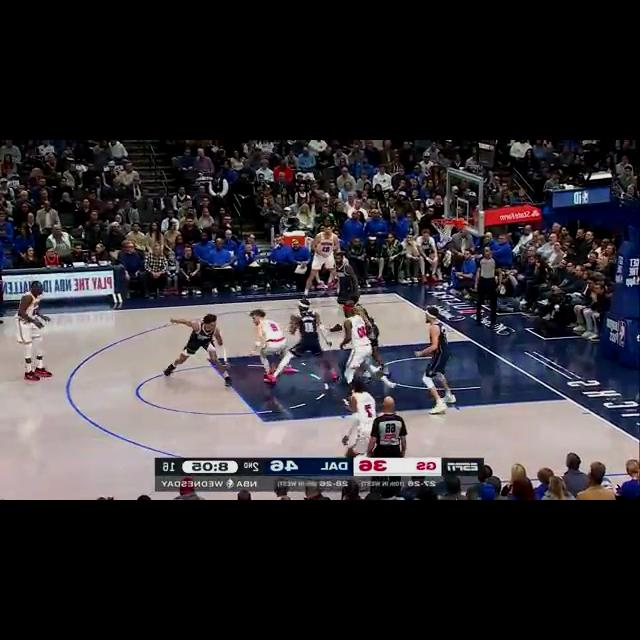Team-1-Player: (266, 299, 338, 385), (412, 306, 466, 416), (161, 312, 233, 384), (334, 252, 362, 304)
Team-2-Player: (18, 278, 56, 382), (339, 302, 379, 392), (300, 220, 342, 300), (341, 380, 383, 456), (248, 308, 288, 360)
